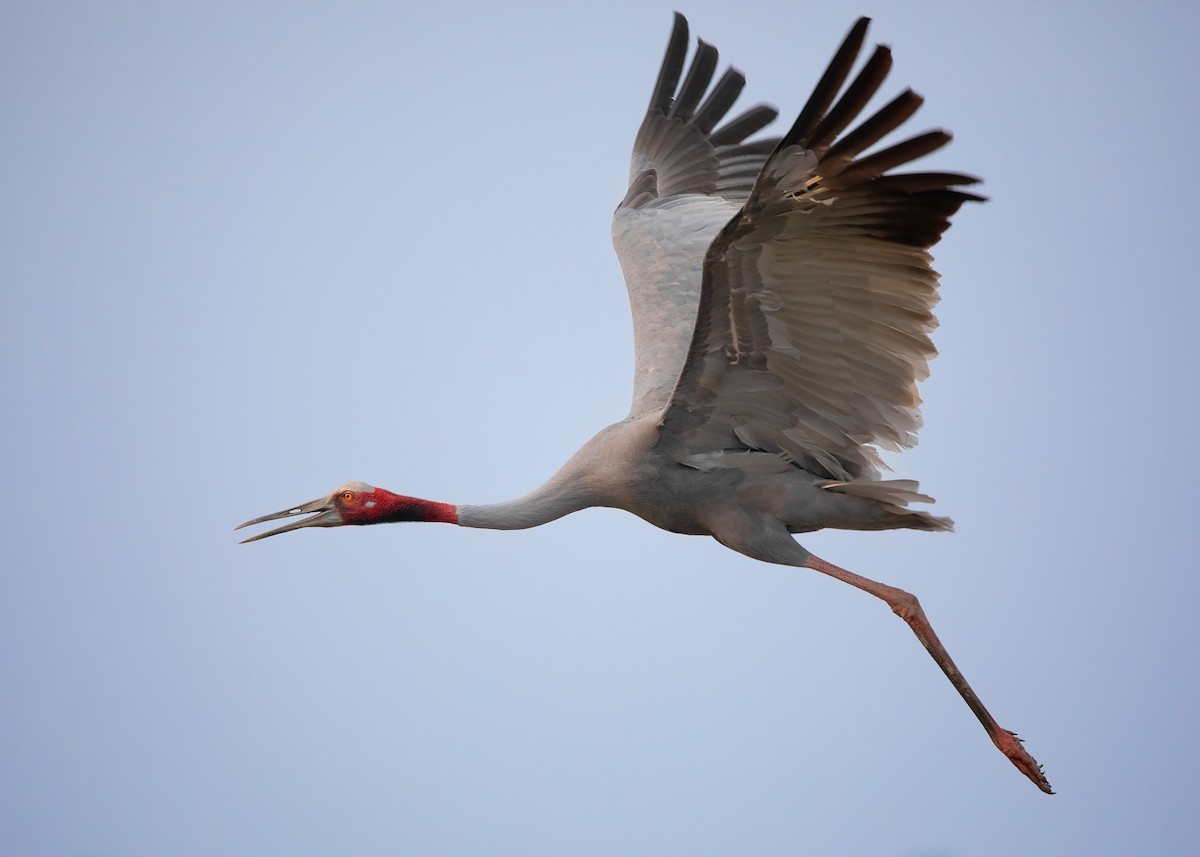crane: (227, 8, 1076, 807)
